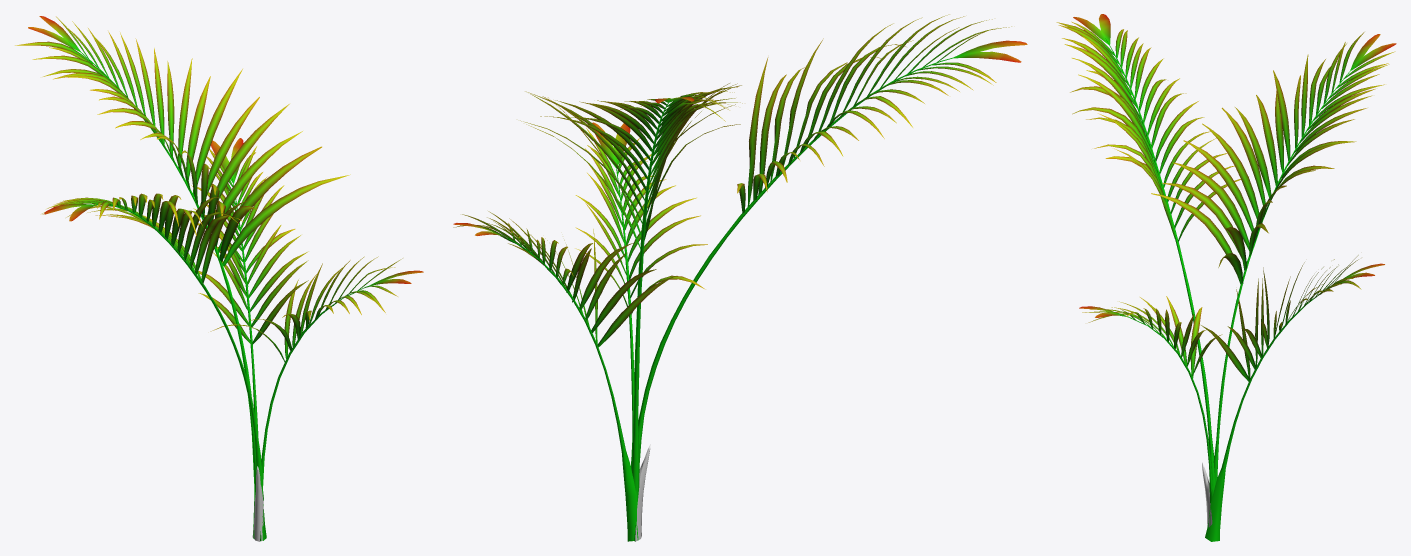
File: Alexandra Palm_LOD2_Var3_ukgkcilia.fbx
The picture shows the model from 3 angles, left to right: view 1: azimuth 30°, elevation 25°; view 2: azimuth 150°, elevation 25°; view 3: azimuth 270°, elevation 25°; orthographic projection. The views are drawn at different scales.
Visible parts, largest first — view 1: _kijl_Var3_LOD2; view 2: _kijl_Var3_LOD2; view 3: _kijl_Var3_LOD2.
Boxes of the visible parts, left/top/right/bottom form: _kijl_Var3_LOD2: left=15, top=16, right=423, bottom=541; _kijl_Var3_LOD2: left=453, top=14, right=1027, bottom=541; _kijl_Var3_LOD2: left=1056, top=14, right=1396, bottom=541.
Size of the model in its own units: 57.08 by 69.68 by 48.63.
